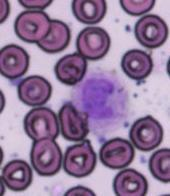M: (72, 69, 128, 133)
